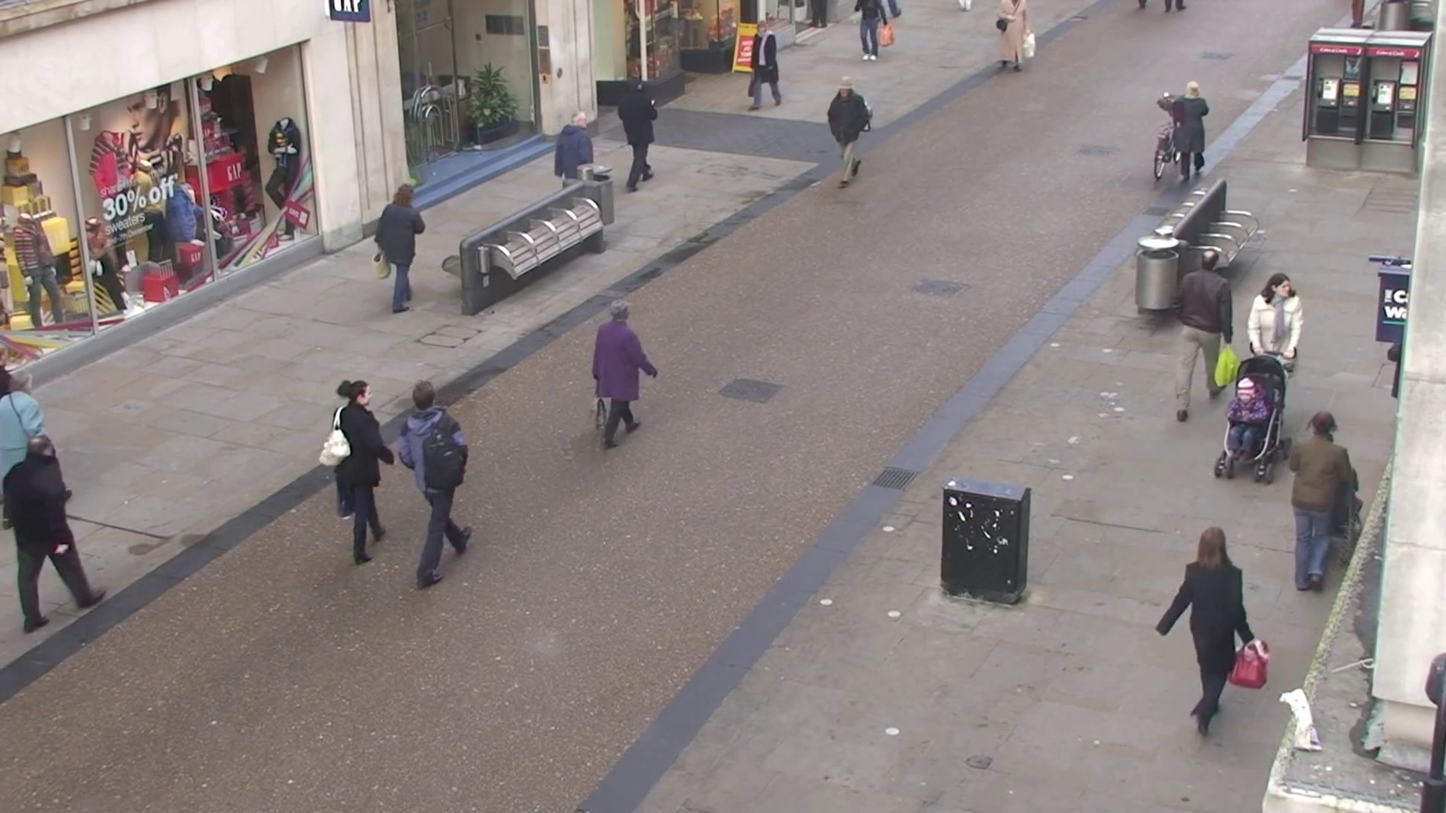person: (1155, 525, 1258, 737), (0, 434, 99, 633), (386, 379, 471, 588), (321, 377, 394, 566), (1289, 413, 1360, 594), (1251, 270, 1304, 453), (592, 301, 658, 446), (1174, 245, 1232, 410), (728, 23, 805, 145), (374, 182, 426, 313), (981, 8, 1056, 83), (1249, 273, 1301, 371), (826, 81, 873, 184), (618, 87, 657, 190), (837, 6, 901, 63), (1176, 80, 1210, 180), (554, 111, 596, 184)
